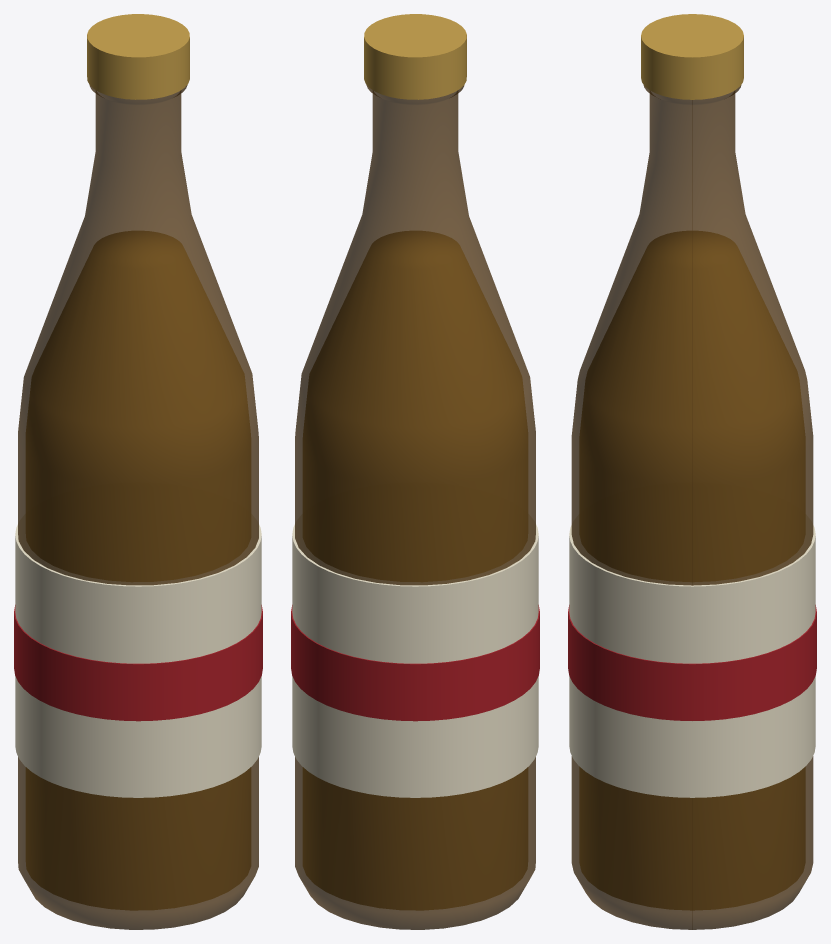
Rendered from cocktail-forst-1857-33cl.glb.
3 renders of one model, left to right at view 1: azimuth 30°, elevation 25°; view 2: azimuth 150°, elevation 25°; view 3: azimuth 270°, elevation 25°, orthographic.
Bounding box in the file's own units: 0.0638 × 0.24 × 0.0638.
